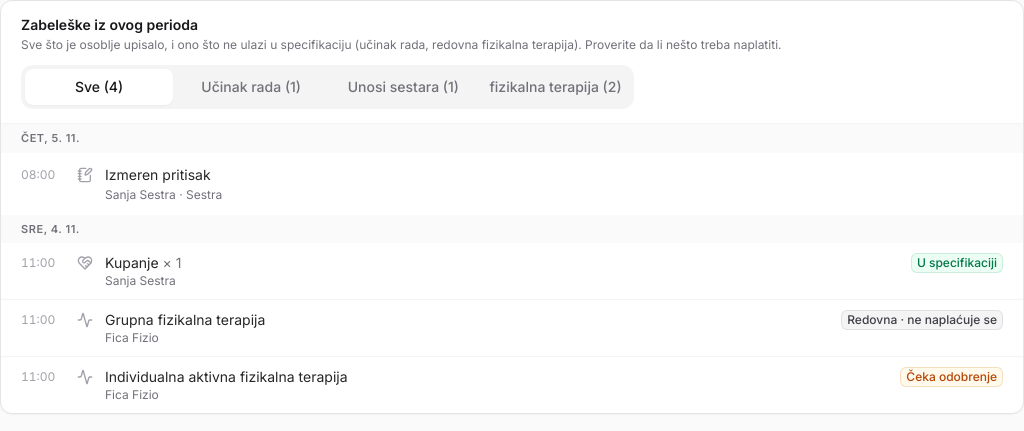
it: PeriodNotes › sve na jednom mestu: učinak, unosi sestara i fizikalna terapija (i ono što se ne naplaćuje)
expect the tab "Sve (4)" is shown: met, box x1=25 y1=69 x2=173 y2=105
expect the text "Izmeren pritisak" is shown: met, box x1=105 y1=166 x2=211 y2=182
Click the tab "fizikalna terapija (2)" at (555, 87), box x1=481 y1=69 x2=630 y2=105
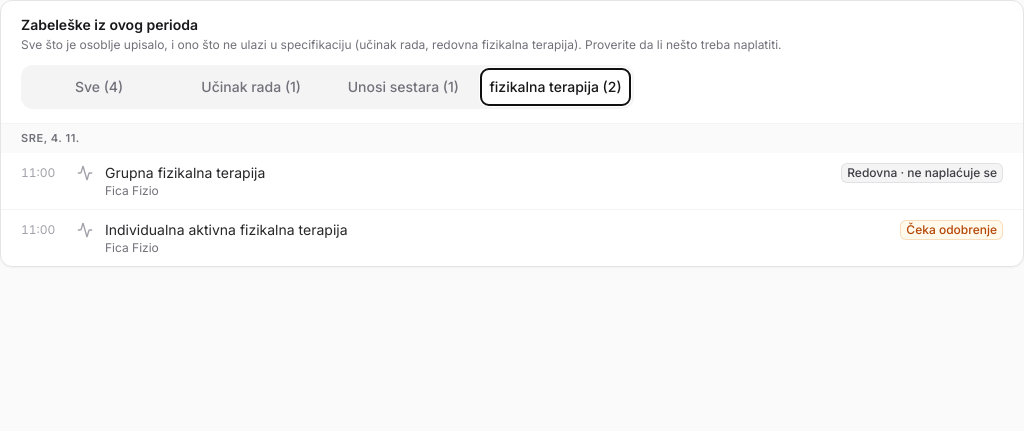
expect the text "Grupna fizikalna terapija" is shown: met, box x1=105 y1=164 x2=265 y2=180
expect the text "Kupanje" is gone: met
expect the text "Izmeren pritisak" is gone: met
